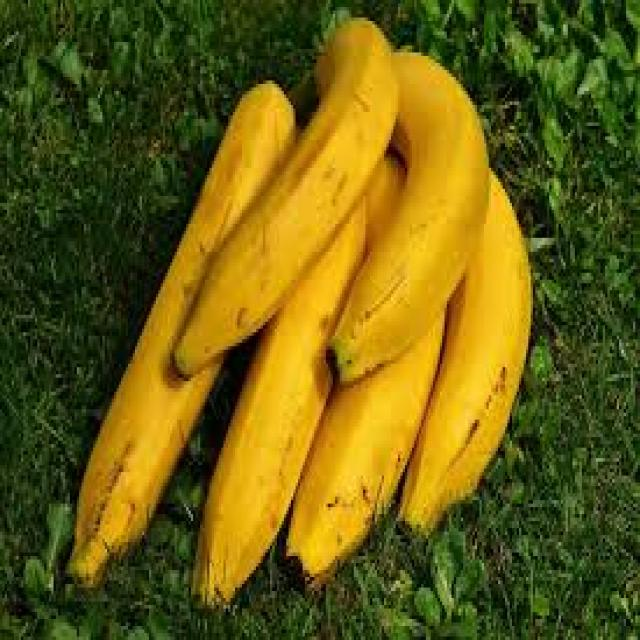Banana: (220, 135, 388, 336), (145, 171, 231, 519), (395, 63, 488, 332), (231, 319, 320, 530), (467, 185, 533, 460), (316, 379, 428, 525)
